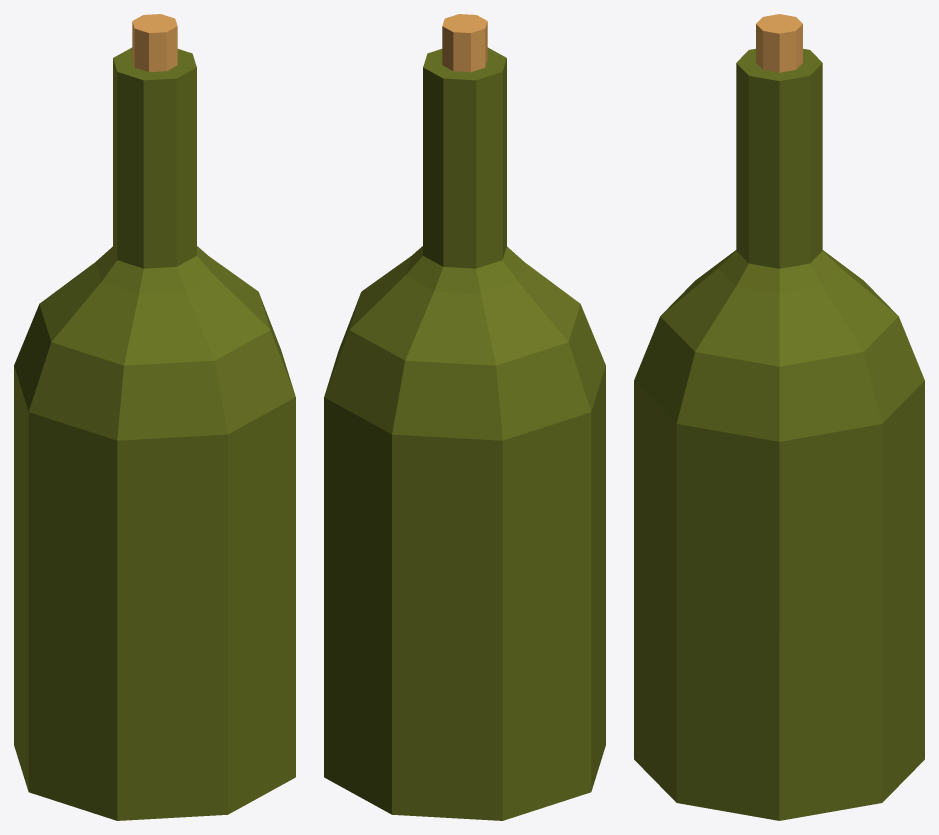
The model's file is bottle.fbx.
3 views of the same model, side by side, from view 1: azimuth 30°, elevation 25°; view 2: azimuth 150°, elevation 25°; view 3: azimuth 270°, elevation 25° (orthographic).
Visible parts, largest first — view 1: Cylinder; view 2: Cylinder; view 3: Cylinder.
Part boxes in pixels (x1,y1,x2,y2): Cylinder: (14, 14, 295, 820); Cylinder: (324, 14, 605, 820); Cylinder: (634, 14, 924, 820).
Bounding box in the file's own units: 0.4161 × 1.16 × 0.4161.
